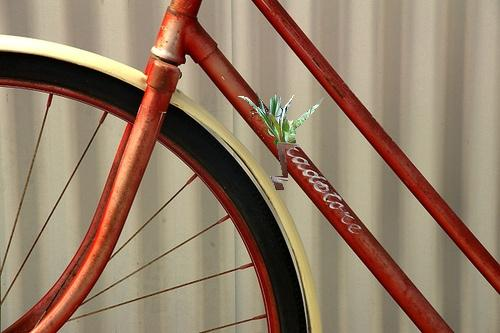tampered: (239, 94, 324, 190)
